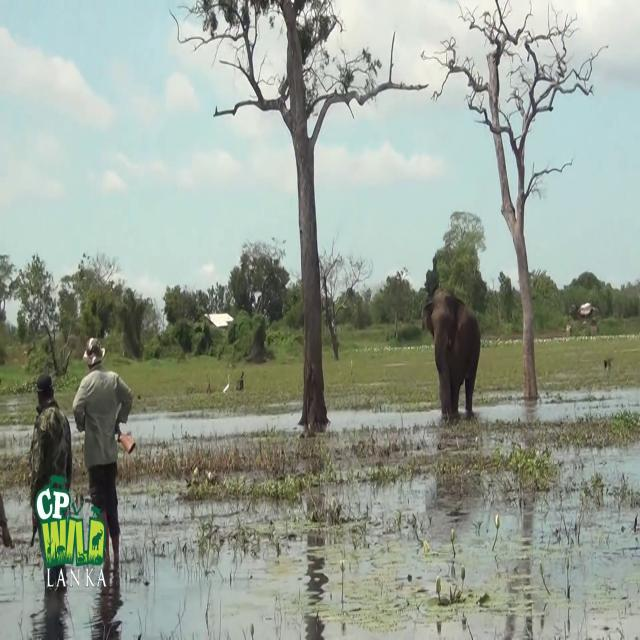Elephant: (421, 288, 481, 419)
person: (72, 337, 135, 572), (28, 374, 72, 588)
